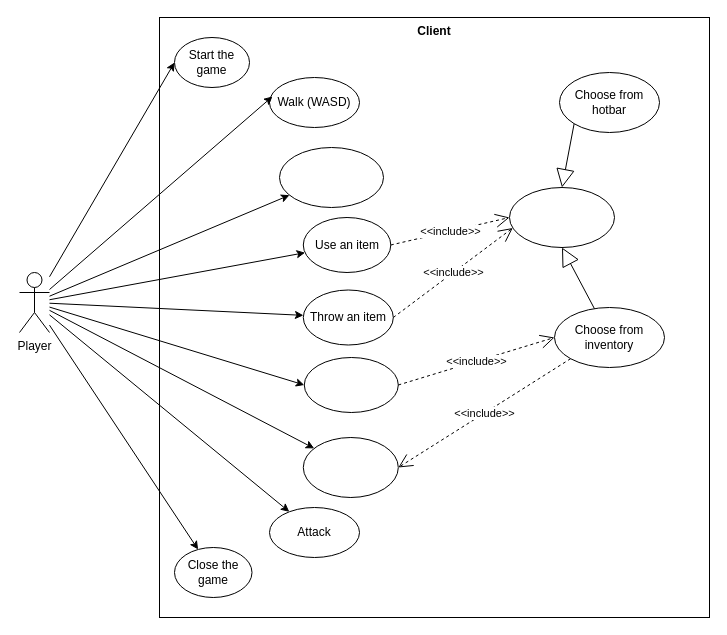
Some shapes in this 727 by 635 pixel diagram are drawn without their labels. Here are the shapes that lost their labels. From the top down, the centre of each, then its label:
At pixel 331 177: "Pick up an item from the ground".
At pixel 561 217: "Choose an item".
At pixel 350 384: "Add item to hotbar".
At pixel 350 467: "Open inventory".
